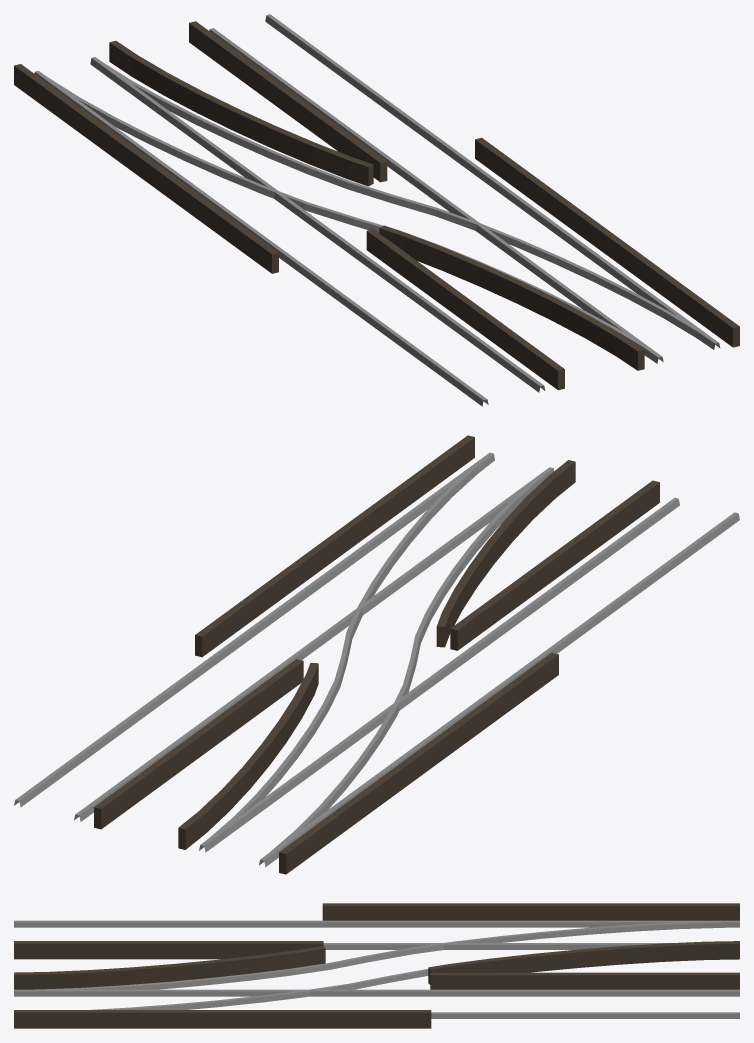
Rendered from SW_ENV_Track_DoubleToDouble_SingleCross_20m_Collision.fbx.
3 renders of one model, top to bottom at view 1: azimuth 30°, elevation 25°; view 2: azimuth 150°, elevation 25°; view 3: azimuth 270°, elevation 25°, orthographic. The views are drawn at different scales.
Parts seen in each view (by area): view 1: SW_ENV_Track_DoubleToDouble_SingleCross_20m_Collision; view 2: SW_ENV_Track_DoubleToDouble_SingleCross_20m_Collision; view 3: SW_ENV_Track_DoubleToDouble_SingleCross_20m_Collision.
Part boxes in pixels (bbox=[...]): SW_ENV_Track_DoubleToDouble_SingleCross_20m_Collision: bbox=[14, 14, 739, 406]; SW_ENV_Track_DoubleToDouble_SingleCross_20m_Collision: bbox=[14, 435, 739, 874]; SW_ENV_Track_DoubleToDouble_SingleCross_20m_Collision: bbox=[14, 903, 739, 1028].
Size of the model in its own units: 713 by 47.71 by 2000.
